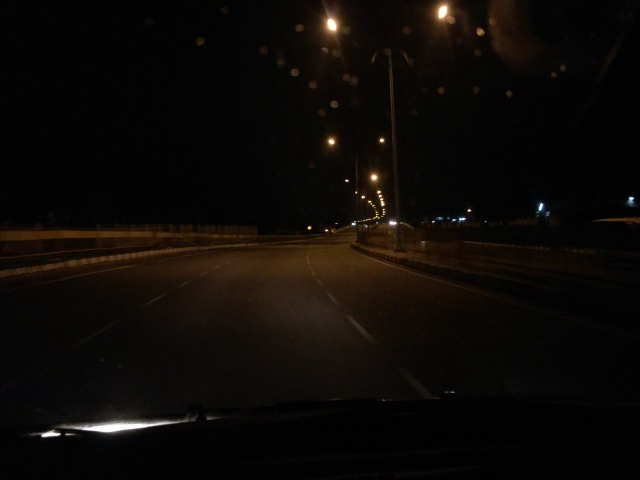car: (390, 221, 399, 227)
